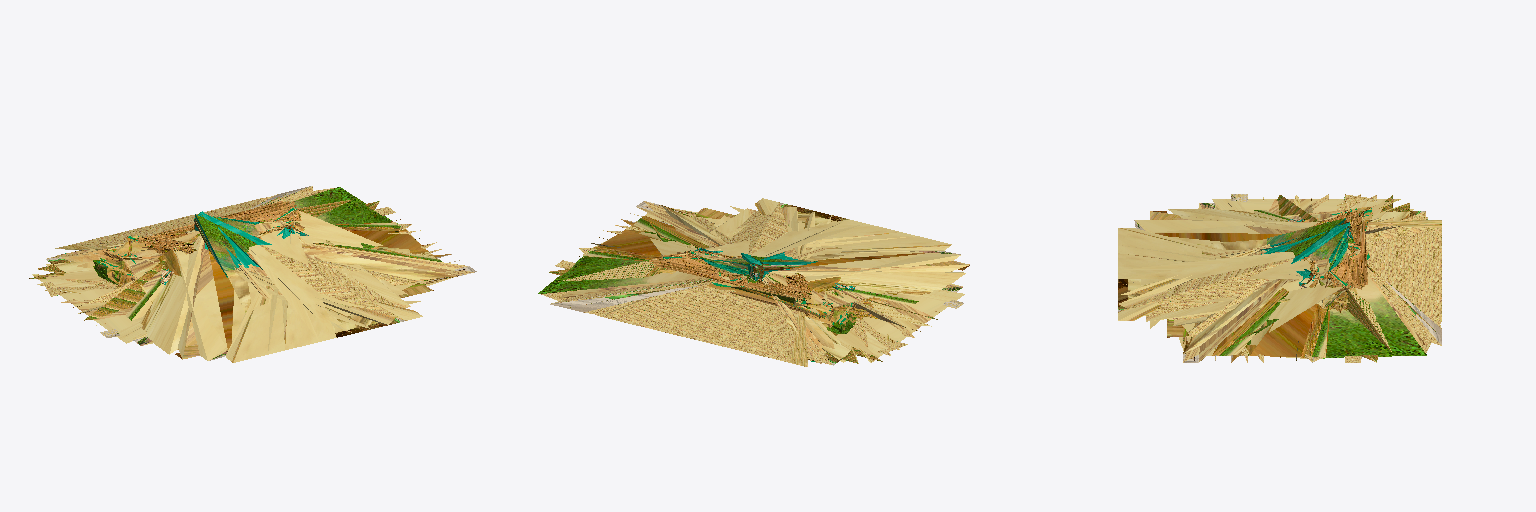
3 views of the same model, side by side, from view 1: azimuth 30°, elevation 25°; view 2: azimuth 150°, elevation 25°; view 3: azimuth 270°, elevation 25° (orthographic).
Parts seen in each view (by area): view 1: ground, tree; view 2: ground, tree; view 3: ground, tree.
Part boxes in pixels (x1,y1,x2,y2): ground: (30, 186, 473, 362); tree: (29, 186, 476, 360); ground: (538, 198, 969, 366); tree: (550, 201, 969, 365); ground: (1118, 194, 1441, 362); tree: (1118, 194, 1441, 362).
Bounding box in the file's own units: 9655 × 1312 × 7839.
Materials: 32 (30 with a texture image).